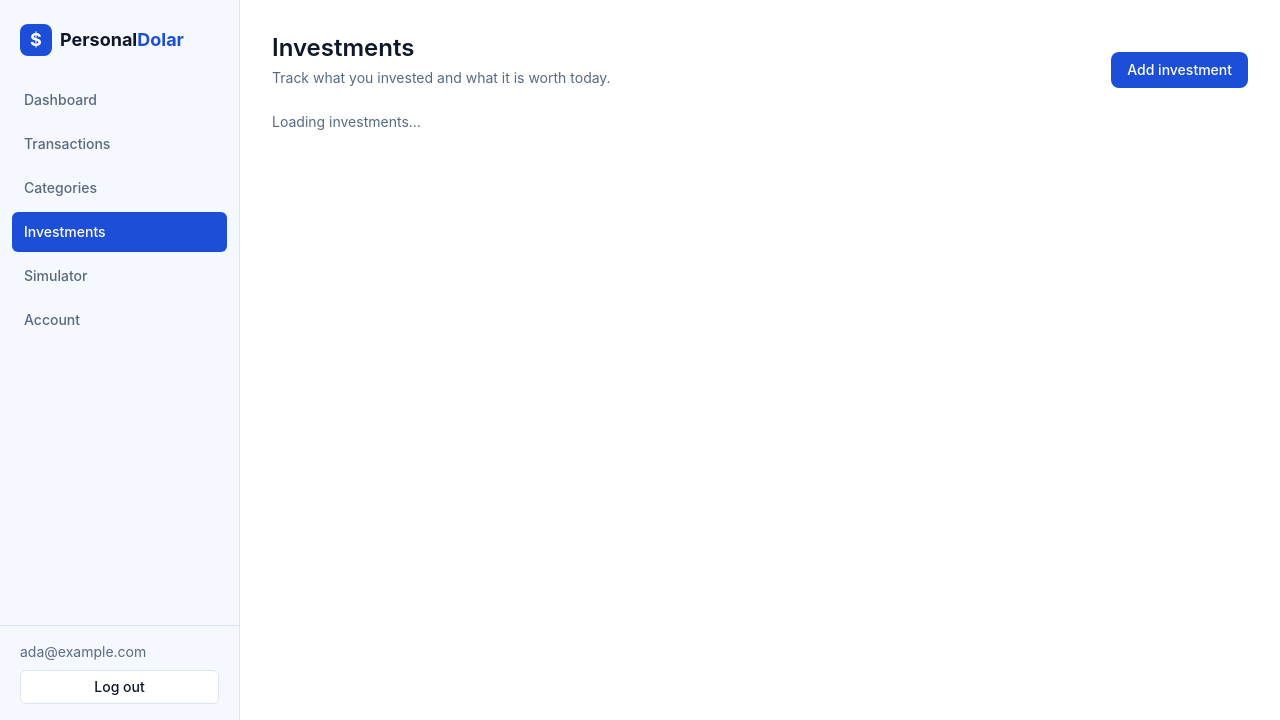
Test: Add investment › is available while the list is loading
This screenshot has width=1280, height=720.
Expected: the text "Loading investments…" is shown, [272,113,421,130]
Click the button "Add investment" at x=1180, y=70, box [1111,52,1248,88]
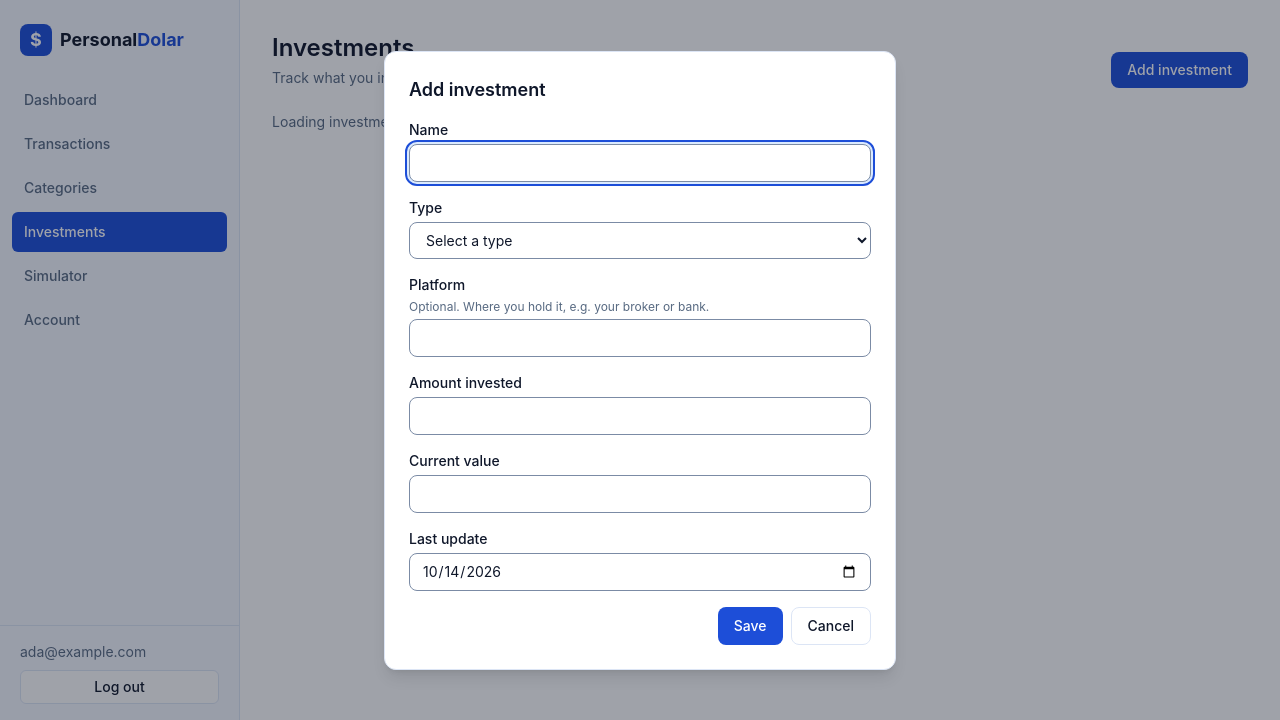
Expected: the dialog "Add investment" is shown, [384,50,896,670]
